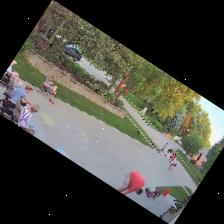person: (118, 171, 145, 195), (11, 86, 32, 108), (19, 105, 39, 126), (4, 61, 22, 84), (44, 77, 57, 104), (168, 159, 177, 169), (159, 144, 167, 154), (165, 149, 172, 156), (27, 129, 34, 135)
